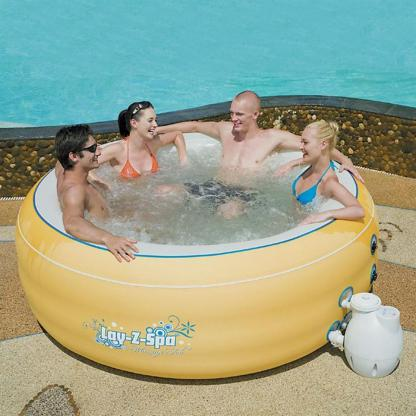face: (300, 129, 320, 163), (231, 101, 252, 133), (82, 136, 102, 169), (139, 110, 158, 141)
